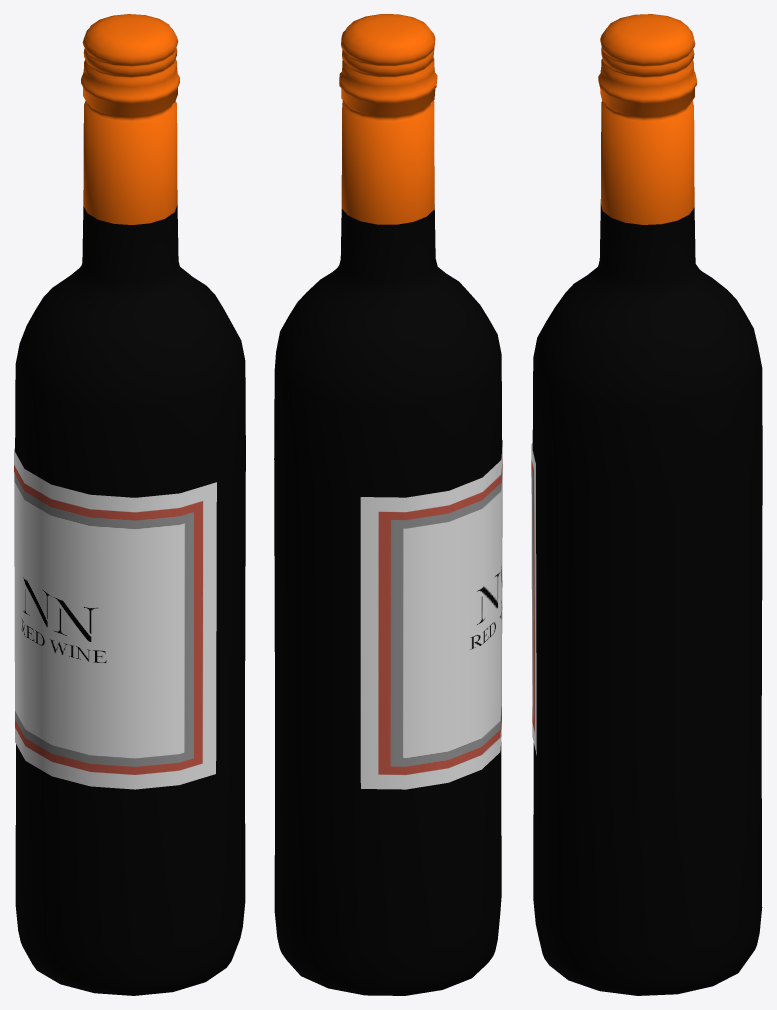
Rendered from Wine.fbx.
3 views of the same model, side by side, from view 1: azimuth 30°, elevation 25°; view 2: azimuth 150°, elevation 25°; view 3: azimuth 270°, elevation 25° (orthographic).
Visible parts, largest first — view 1: REALWINE; view 2: REALWINE; view 3: REALWINE.
Boxes of the visible parts, <box> form: REALWINE: <box>14,14,245,995</box>; REALWINE: <box>274,14,502,995</box>; REALWINE: <box>531,14,762,995</box>.
Size of the model in its own units: 0.7292 by 3.26 by 0.7315.
3 materials, 1 textured.
